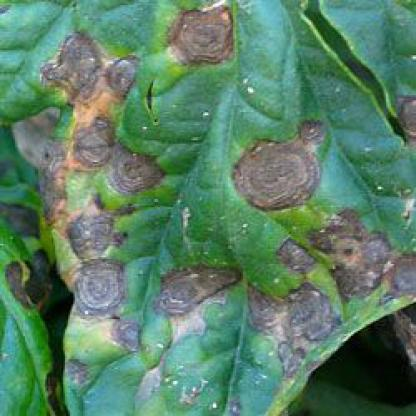potato leaf late blight: (3, 2, 414, 414)
